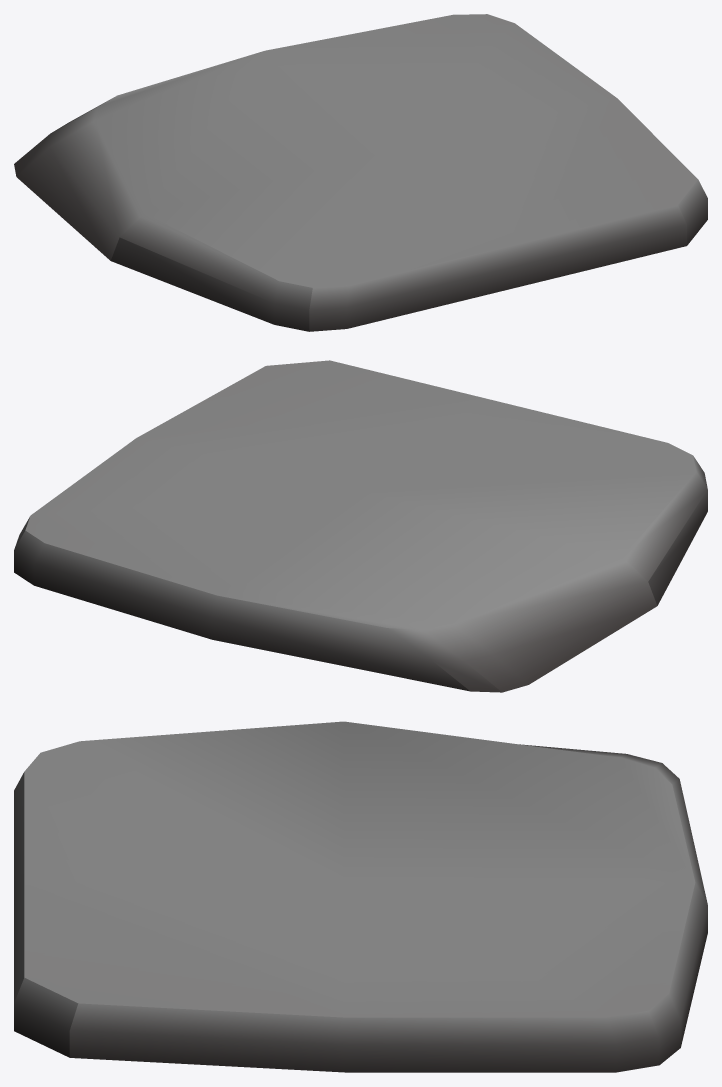
File: WalkRock.002.fbx
3 renders of one model, top to bottom at view 1: azimuth 30°, elevation 25°; view 2: azimuth 150°, elevation 25°; view 3: azimuth 270°, elevation 25°, orthographic. The views are drawn at different scales.
Visible parts, largest first — view 1: Cube.021; view 2: Cube.021; view 3: Cube.021.
Part boxes in pixels (x1,y1,x2,y2): Cube.021: (14, 14, 707, 331); Cube.021: (14, 360, 707, 692); Cube.021: (14, 721, 707, 1072).
Bounding box in the file's own units: 52.87 × 48.19 × 4.06.
